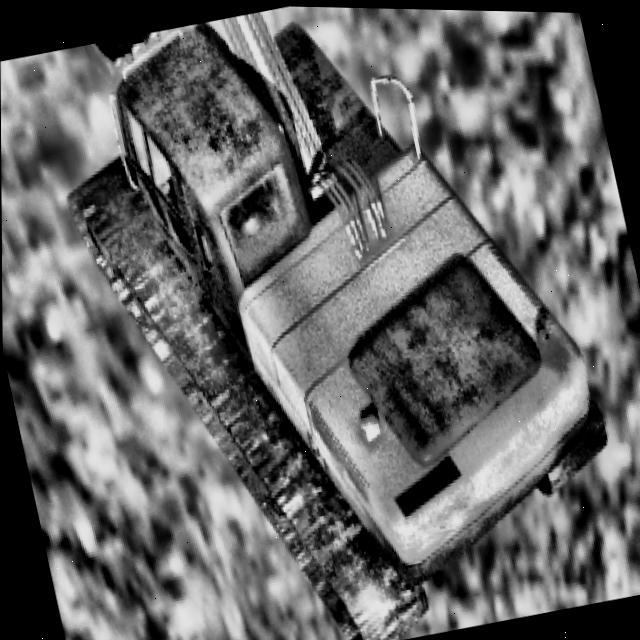excavator: (32, 1, 639, 640)
